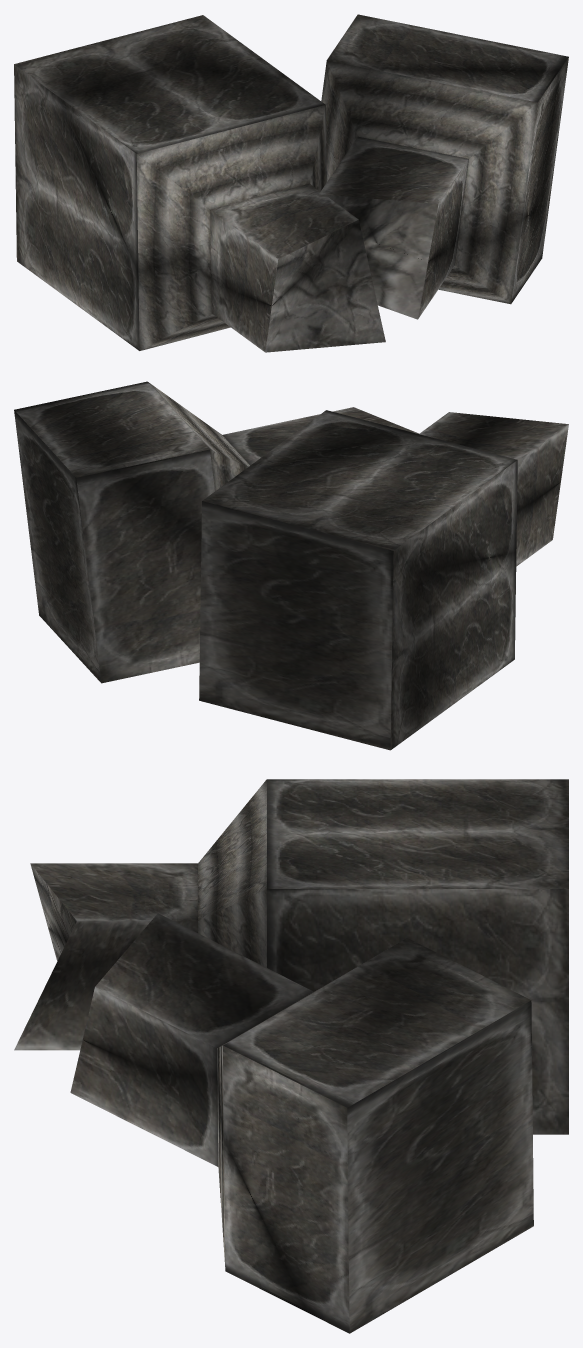
File: column-B-destr_07.obj
The picture shows the model from 3 angles, top to bottom: view 1: azimuth 30°, elevation 25°; view 2: azimuth 150°, elevation 25°; view 3: azimuth 270°, elevation 25°; orthographic projection. The views are drawn at different scales.
Visible parts, largest first — view 1: (null); view 2: (null); view 3: (null).
Boxes of the visible parts, x1,y1,x2,y2 form: (null): (14, 14, 568, 352); (null): (14, 381, 568, 750); (null): (14, 779, 568, 1333).
Bounding box in the file's own units: 3.06 × 1.51 × 2.57.
